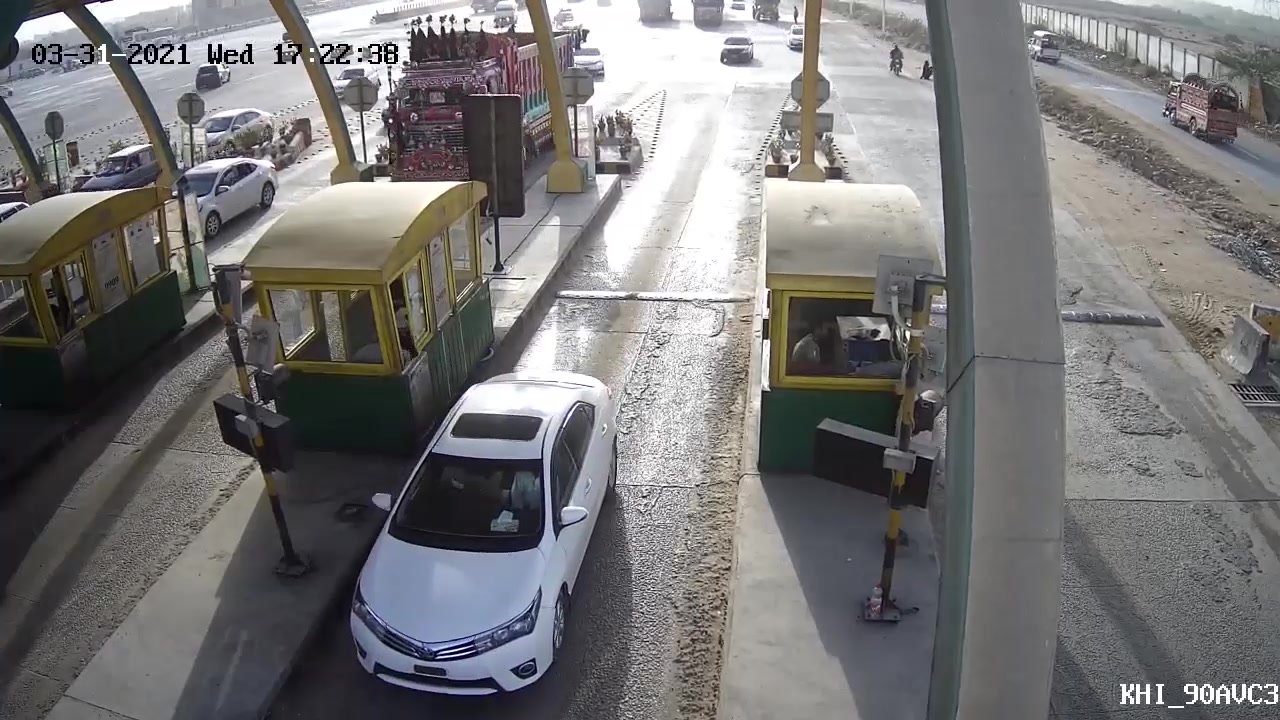F1: (344, 361, 631, 712)
